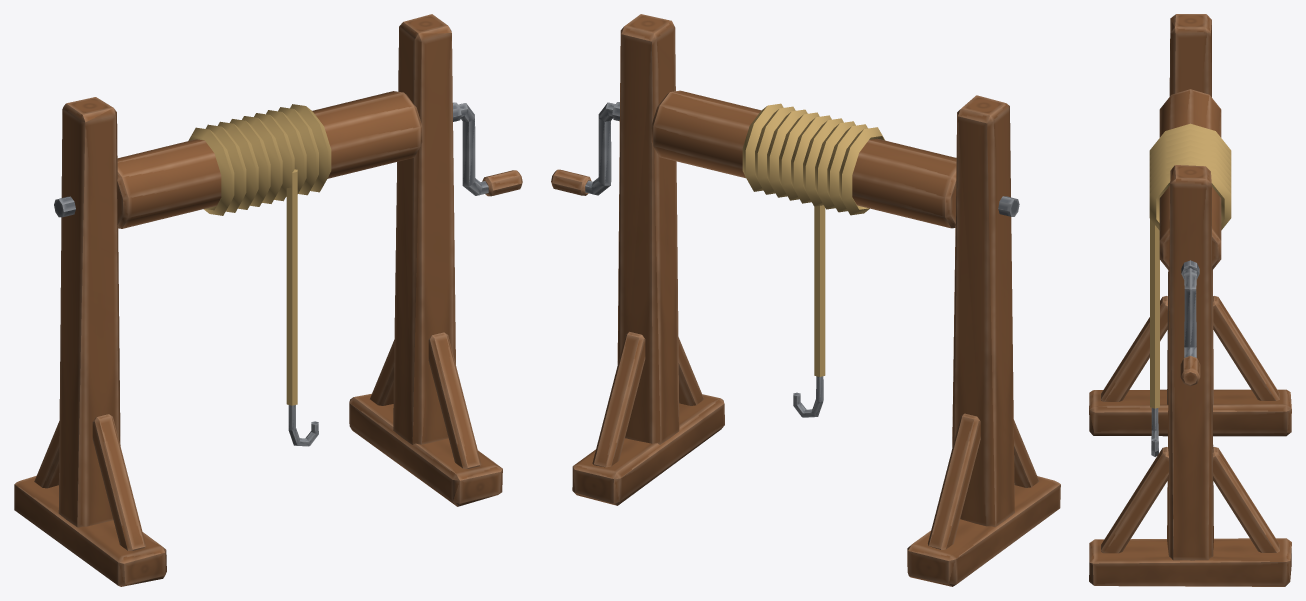
File: well_winch.glb
The picture shows the model from 3 angles, left to right: view 1: azimuth 30°, elevation 25°; view 2: azimuth 150°, elevation 25°; view 3: azimuth 270°, elevation 25°; orthographic projection. The views are drawn at different scales.
Visible parts, largest first — view 1: post_left, post_right, drum, sill_right, sill_left, brace_front_left, brace_front_right, rope, coil_0, crank, coil_8, coil_4 (+9 smaller); view 2: post_left, post_right, drum, sill_right, sill_left, brace_back_left, brace_back_right, rope, coil_0, crank, coil_8, coil_1 (+9 smaller); view 3: post_right, sill_right, sill_left, post_left, drum, brace_front_right, brace_back_right, brace_back_left, brace_front_left, rope, coil_8, crank (+10 smaller).
Boxes of the visible parts, x1,y1,x2,y2 form: post_left: [58, 97, 120, 527]; post_right: [393, 14, 455, 444]; drum: [117, 91, 422, 228]; sill_right: [349, 393, 502, 506]; sill_left: [14, 476, 166, 586]; brace_front_left: [92, 414, 145, 550]; brace_front_right: [428, 332, 481, 468]; rope: [286, 169, 297, 405]; coil_0: [188, 127, 234, 215]; crank: [458, 103, 488, 195]; coil_8: [290, 104, 331, 192]; coil_4: [242, 116, 282, 203]; post_left: [952, 95, 1014, 527]; post_right: [617, 14, 679, 444]; drum: [651, 90, 956, 228]; sill_right: [572, 394, 724, 505]; sill_left: [907, 476, 1060, 586]; brace_back_left: [928, 413, 980, 549]; brace_back_right: [592, 331, 645, 467]; rope: [814, 205, 825, 376]; coil_0: [839, 127, 885, 215]; crank: [585, 102, 615, 195]; coil_8: [742, 103, 783, 191]; coil_1: [827, 124, 867, 212]; post_right: [1167, 165, 1213, 560]; sill_right: [1089, 538, 1291, 586]; sill_left: [1089, 389, 1291, 436]; post_left: [1167, 14, 1213, 404]; drum: [1159, 89, 1221, 270]; brace_front_right: [1101, 447, 1168, 553]; brace_back_right: [1212, 447, 1279, 552]; brace_back_left: [1213, 296, 1279, 400]; brace_front_left: [1101, 296, 1167, 401]; rope: [1150, 219, 1159, 408]; coil_8: [1149, 173, 1231, 230]; crank: [1184, 268, 1196, 357].
Size of the model in its own units: 1.51 by 1.38 by 0.6241.
3 materials, 3 textured.
